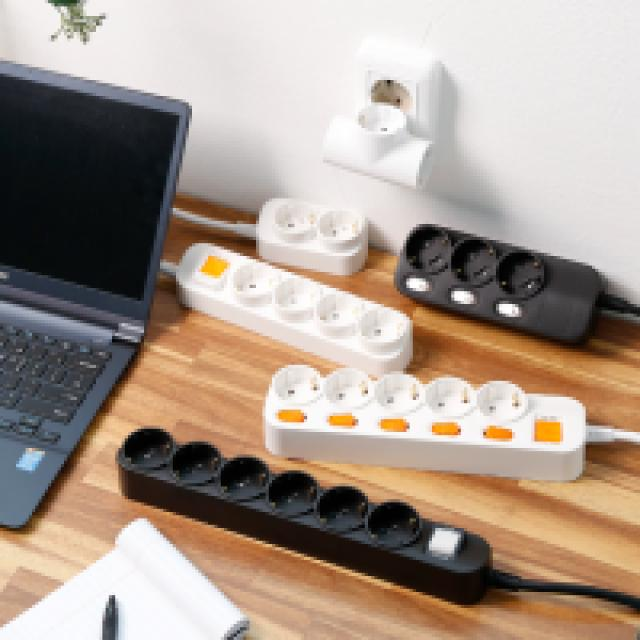typeb: (263, 353, 609, 486), (251, 180, 372, 272)
